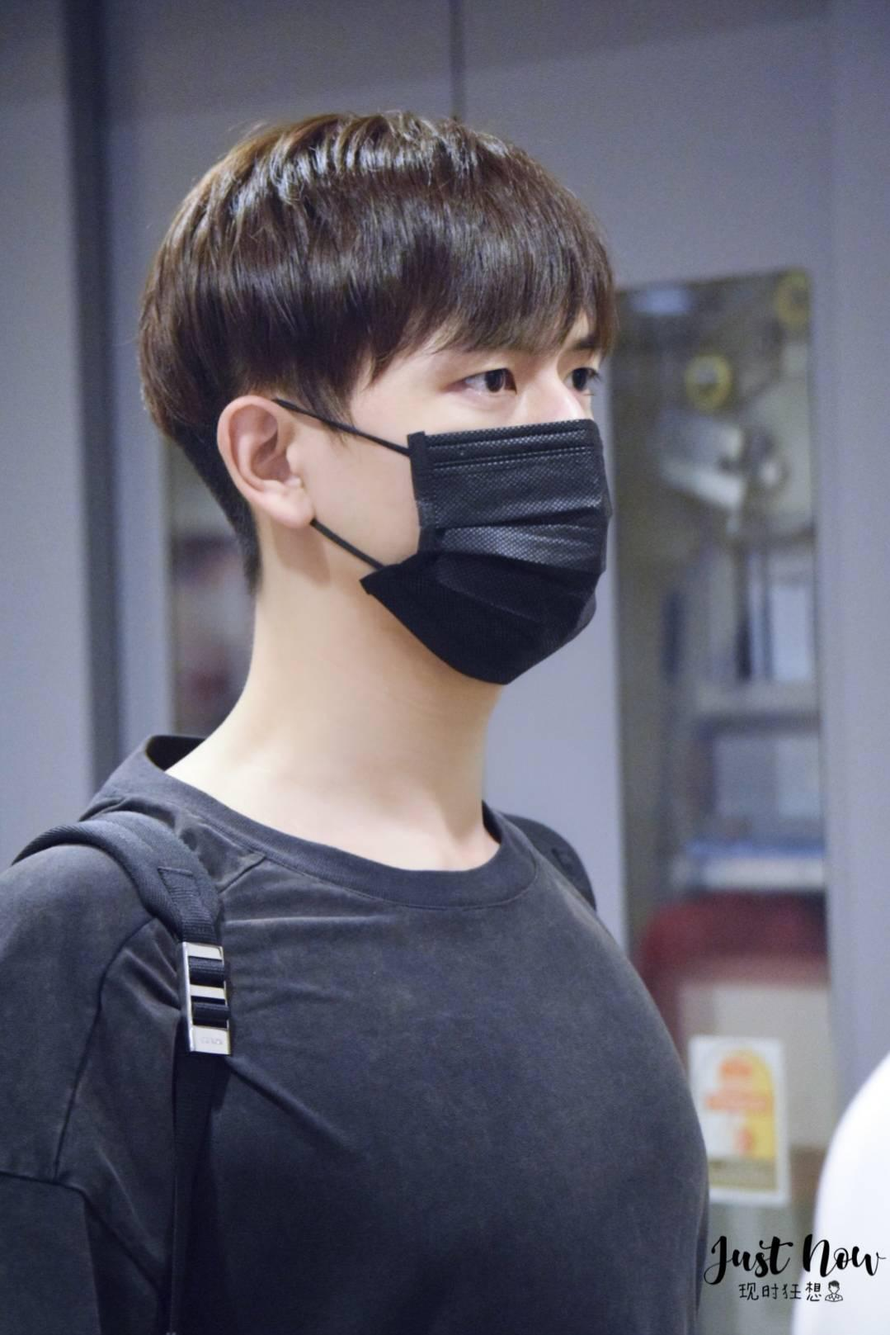OK: (366, 334, 613, 684)
